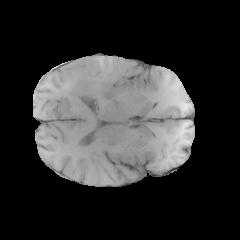glioma: (55, 57, 122, 104)
